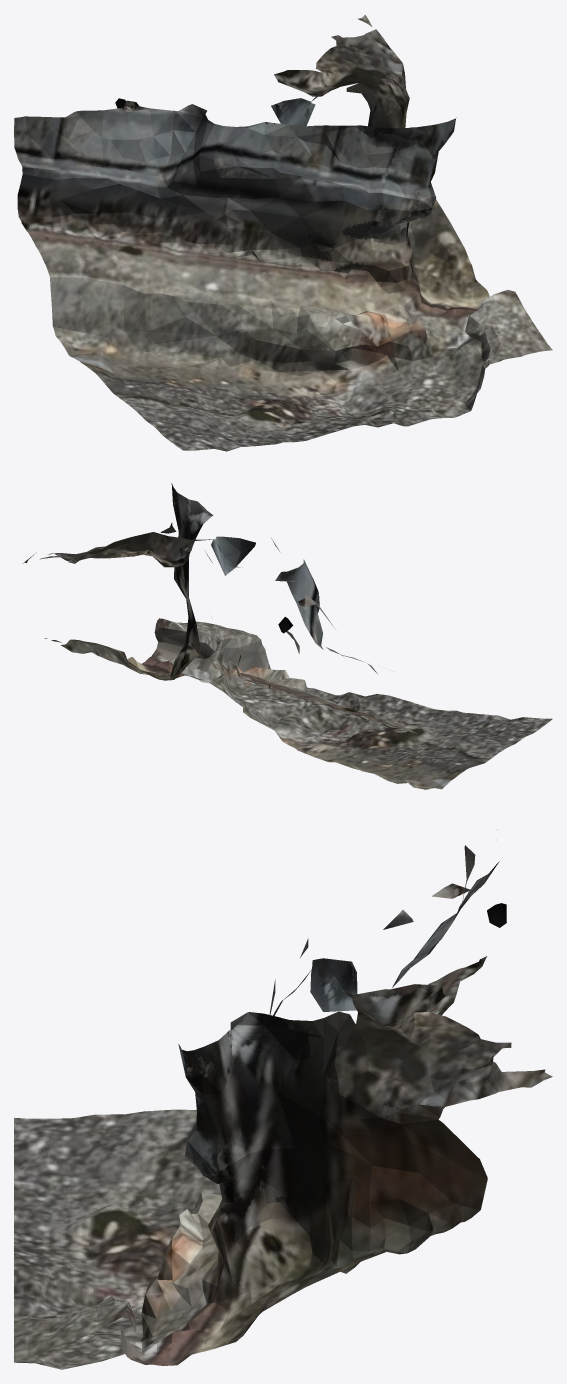
The picture shows the model from 3 angles, top to bottom: view 1: azimuth 30°, elevation 25°; view 2: azimuth 150°, elevation 25°; view 3: azimuth 270°, elevation 25°; orthographic projection. The views are drawn at different scales.
Bounding box in the file's own units: 0.8374 × 0.5364 × 0.7375.
Materials: 3 (3 with a texture image).
